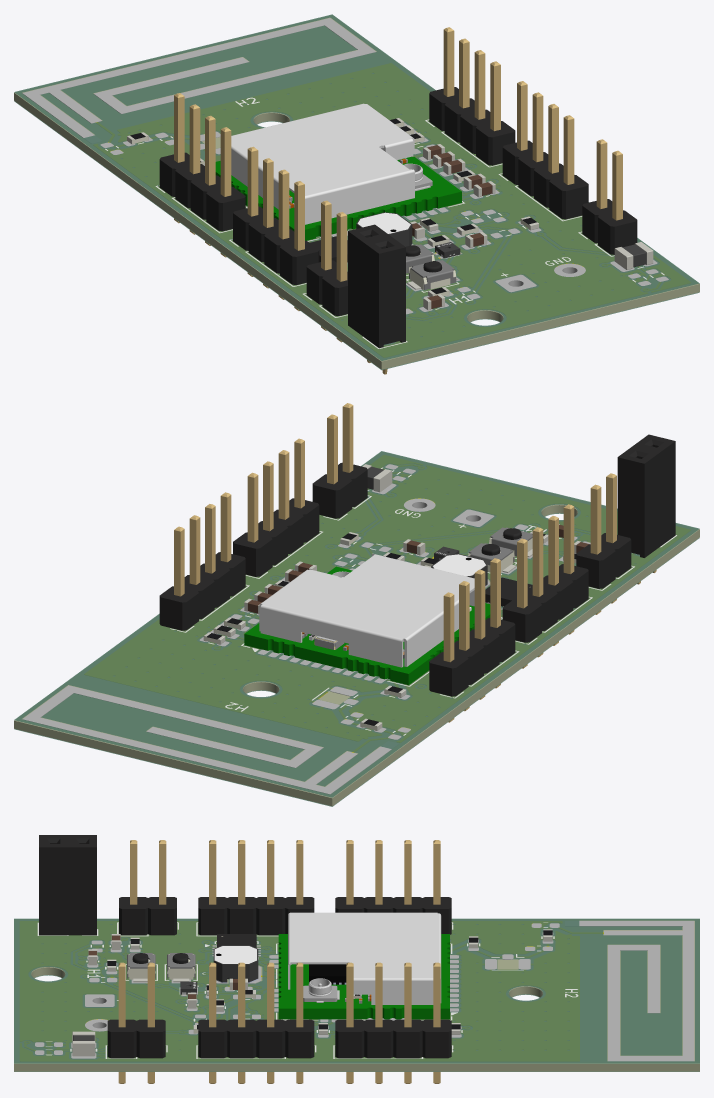
File: SmartPot_V4_RF_provisoire.glb
3 views of the same model, one above another, from view 1: azimuth 30°, elevation 25°; view 2: azimuth 150°, elevation 25°; view 3: azimuth 270°, elevation 25° (orthographic). The views are drawn at different scales.
Visible parts, largest first — view 1: =>[0:1:1:106], =>[0:1:1:102], =>[0:1:1:101] (×4), =>[0:1:1:108], =>[0:1:1:7], =>[0:1:1:103], =>[0:1:1:97] (×2), =>[0:1:1:91], =>[0:1:1:105], =>[0:1:1:95], =>[0:1:1:5], =>[0:1:1:107] (+1 smaller); view 2: =>[0:1:1:106], =>[0:1:1:102], =>[0:1:1:101] (×4), =>[0:1:1:108], =>[0:1:1:7], =>[0:1:1:103], =>[0:1:1:97] (×2), =>[0:1:1:91], =>[0:1:1:95] (×2), =>[0:1:1:105], =>[0:1:1:5], =>[0:1:1:107]; view 3: =>[0:1:1:106], =>[0:1:1:102], =>[0:1:1:101] (×4), =>[0:1:1:108], =>[0:1:1:7], =>[0:1:1:103], =>[0:1:1:97] (×2), =>[0:1:1:91], =>[0:1:1:95] (×2), =>[0:1:1:105], =>[0:1:1:5], =>[0:1:1:107] (+2 smaller).
Part boxes in pixels (x1,y1,x2,y2): =>[0:1:1:106]: (14,14,699,360); =>[0:1:1:102]: (94,63,690,357); =>[0:1:1:101] (×4): (159,27,588,310); =>[0:1:1:108]: (14,15,699,369); =>[0:1:1:7]: (215,103,461,240); =>[0:1:1:103]: (22,18,668,343); =>[0:1:1:97] (×2): (306,139,637,342); =>[0:1:1:91]: (348,224,405,374); =>[0:1:1:105]: (105,97,664,348); =>[0:1:1:95]: (407,260,458,290); =>[0:1:1:5]: (356,212,412,246); =>[0:1:1:107]: (14,101,699,370); =>[0:1:1:106]: (14,451,699,797); =>[0:1:1:102]: (84,455,690,752); =>[0:1:1:101] (×4): (159,438,588,722); =>[0:1:1:108]: (14,452,699,806); =>[0:1:1:7]: (244,553,490,685); =>[0:1:1:103]: (22,464,638,794); =>[0:1:1:97] (×2): (312,403,631,614); =>[0:1:1:91]: (617,434,675,584); =>[0:1:1:95] (×2): (468,527,532,572); =>[0:1:1:105]: (170,467,676,735); =>[0:1:1:5]: (431,554,487,586); =>[0:1:1:107]: (14,513,699,806); =>[0:1:1:106]: (14,918,699,1063); =>[0:1:1:102]: (20,921,603,1060); =>[0:1:1:101] (×4): (198,840,451,1083); =>[0:1:1:108]: (14,919,699,1071); =>[0:1:1:7]: (278,912,449,1019); =>[0:1:1:103]: (35,921,694,1061); =>[0:1:1:97] (×2): (107,840,176,1083); =>[0:1:1:91]: (39,835,96,935); =>[0:1:1:95] (×2): (127,953,195,982); =>[0:1:1:105]: (37,922,578,1058); =>[0:1:1:5]: (213,945,258,982); =>[0:1:1:107]: (14,975,699,1071).
Size of the model in its own units: 0.03 by 0.0116 by 0.06.
